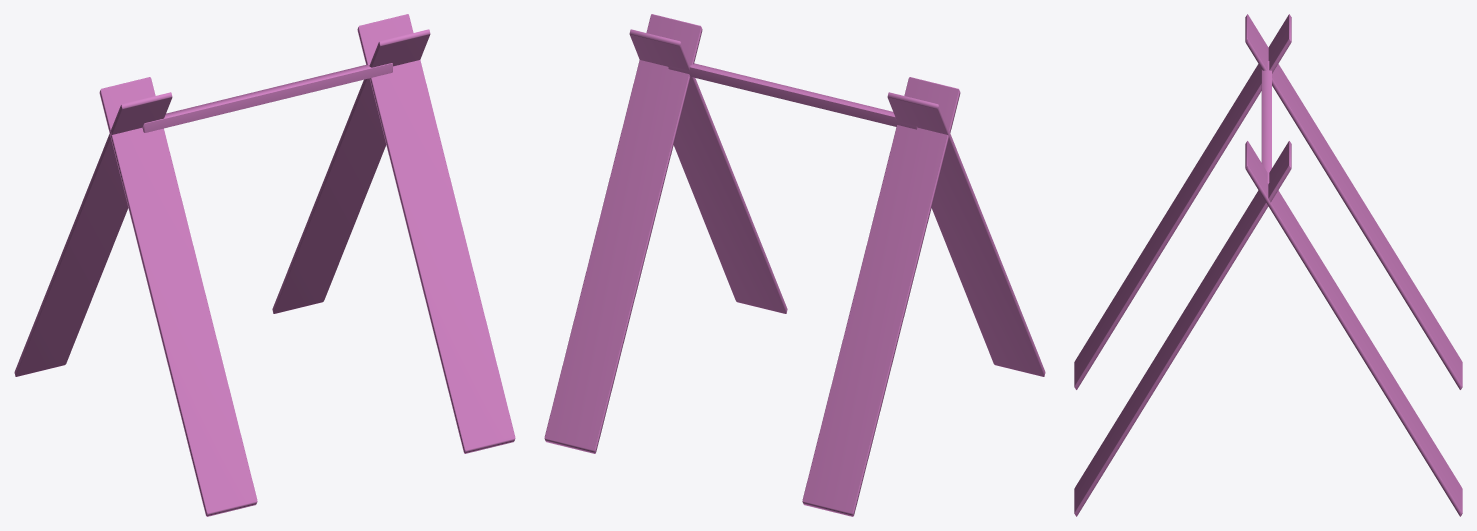
File: RoofBase1on1.fbx
3 renders of one model, left to right at view 1: azimuth 30°, elevation 25°; view 2: azimuth 150°, elevation 25°; view 3: azimuth 270°, elevation 25°, orthographic.
Visible parts, largest first — view 1: Roof002; view 2: Roof002; view 3: Roof002.
Part boxes in pixels (bbox=[...]): Roof002: bbox=[14, 14, 515, 516]; Roof002: bbox=[544, 14, 1045, 516]; Roof002: bbox=[1074, 14, 1462, 516].
Size of the model in its own units: 39.69 by 43.09 by 43.06.
